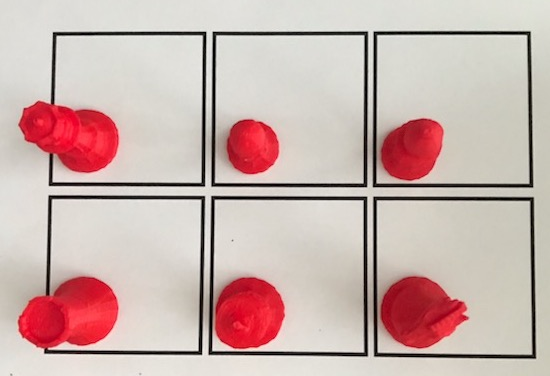Red Bishop: (377, 116, 448, 182)
Red Castle: (18, 273, 124, 357)
Red King: (211, 272, 291, 349)
Red Knight: (370, 262, 474, 355)
Red Pawn: (220, 114, 289, 180)
Red Queen: (13, 93, 124, 177)
